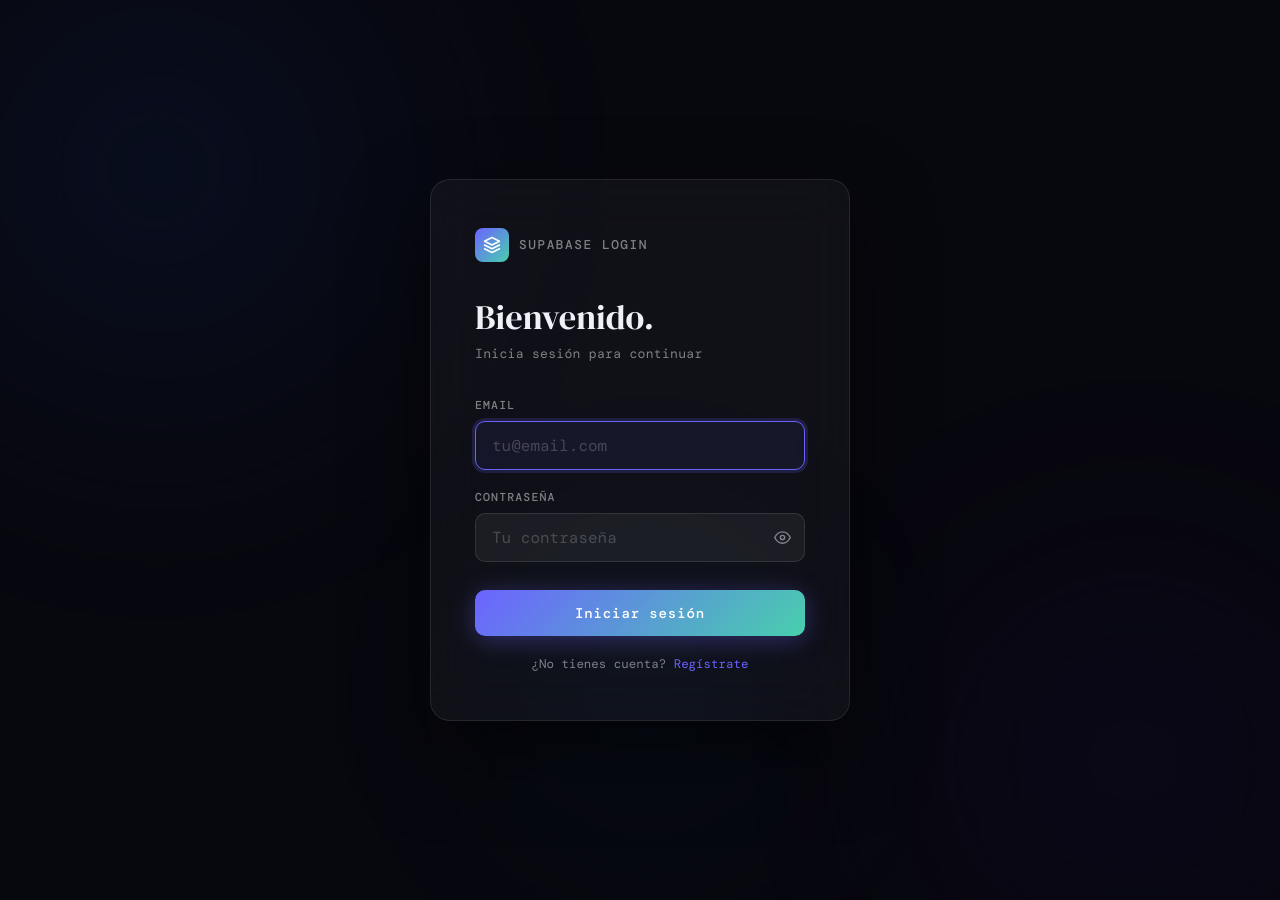
Test case: LoginForm › muestra error de formato de email inválido
Type "not-an-email" into the field labelled "Email" at (640, 446), box [475,421,805,470]
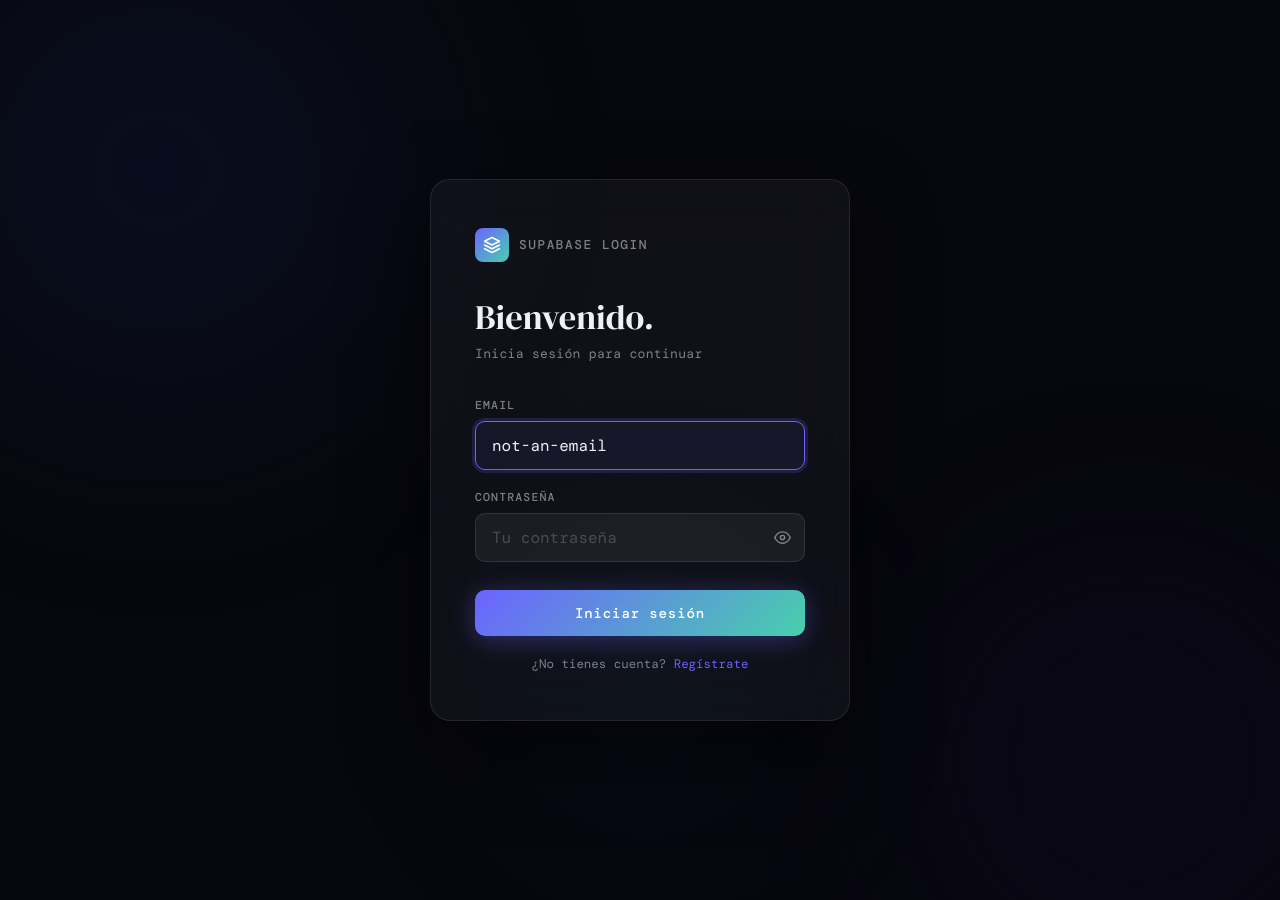
Click the button "Iniciar sesión" at (640, 613), box [475,590,805,636]
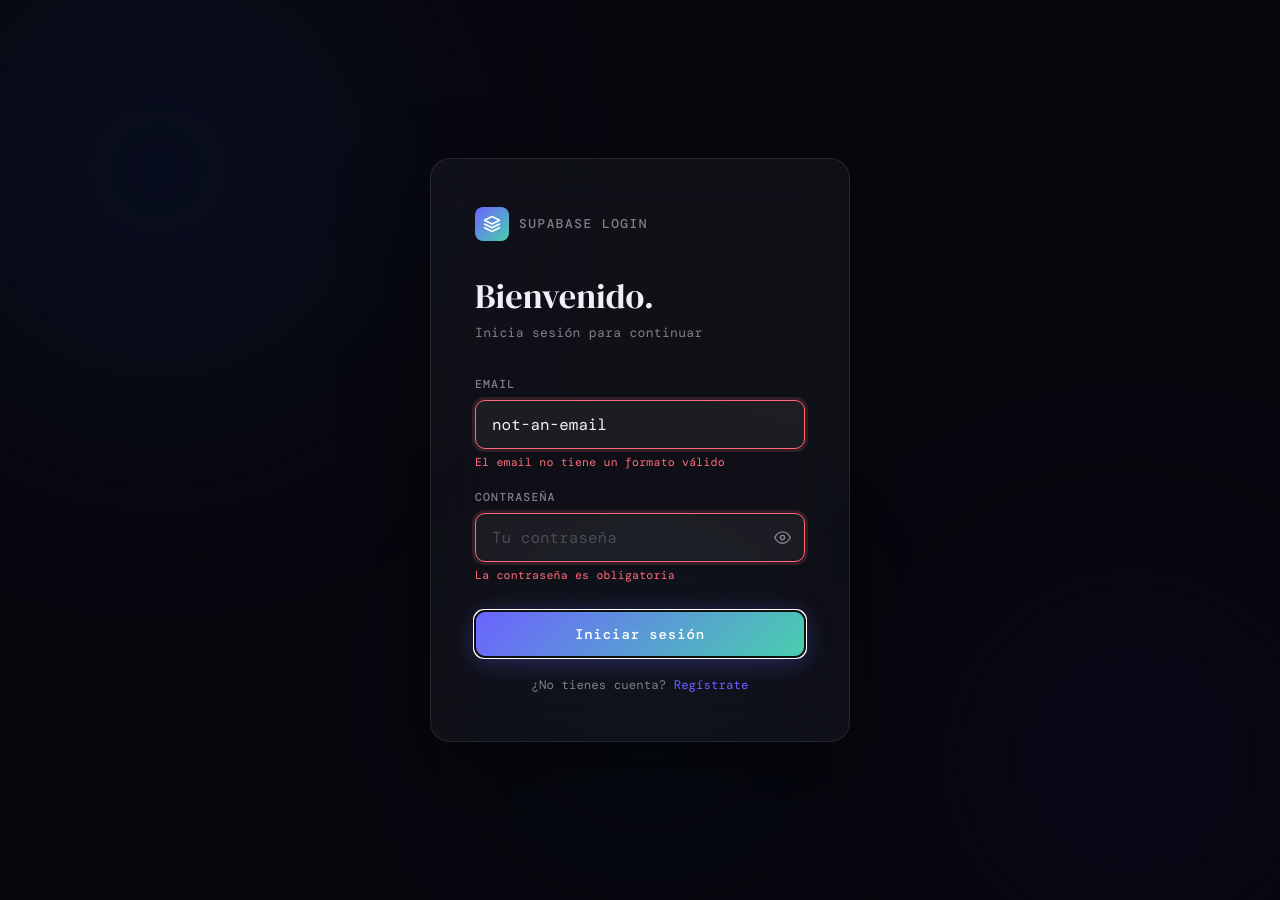
Check: the text "El email no tiene un formato válido" is shown, box [475,455,725,470]
